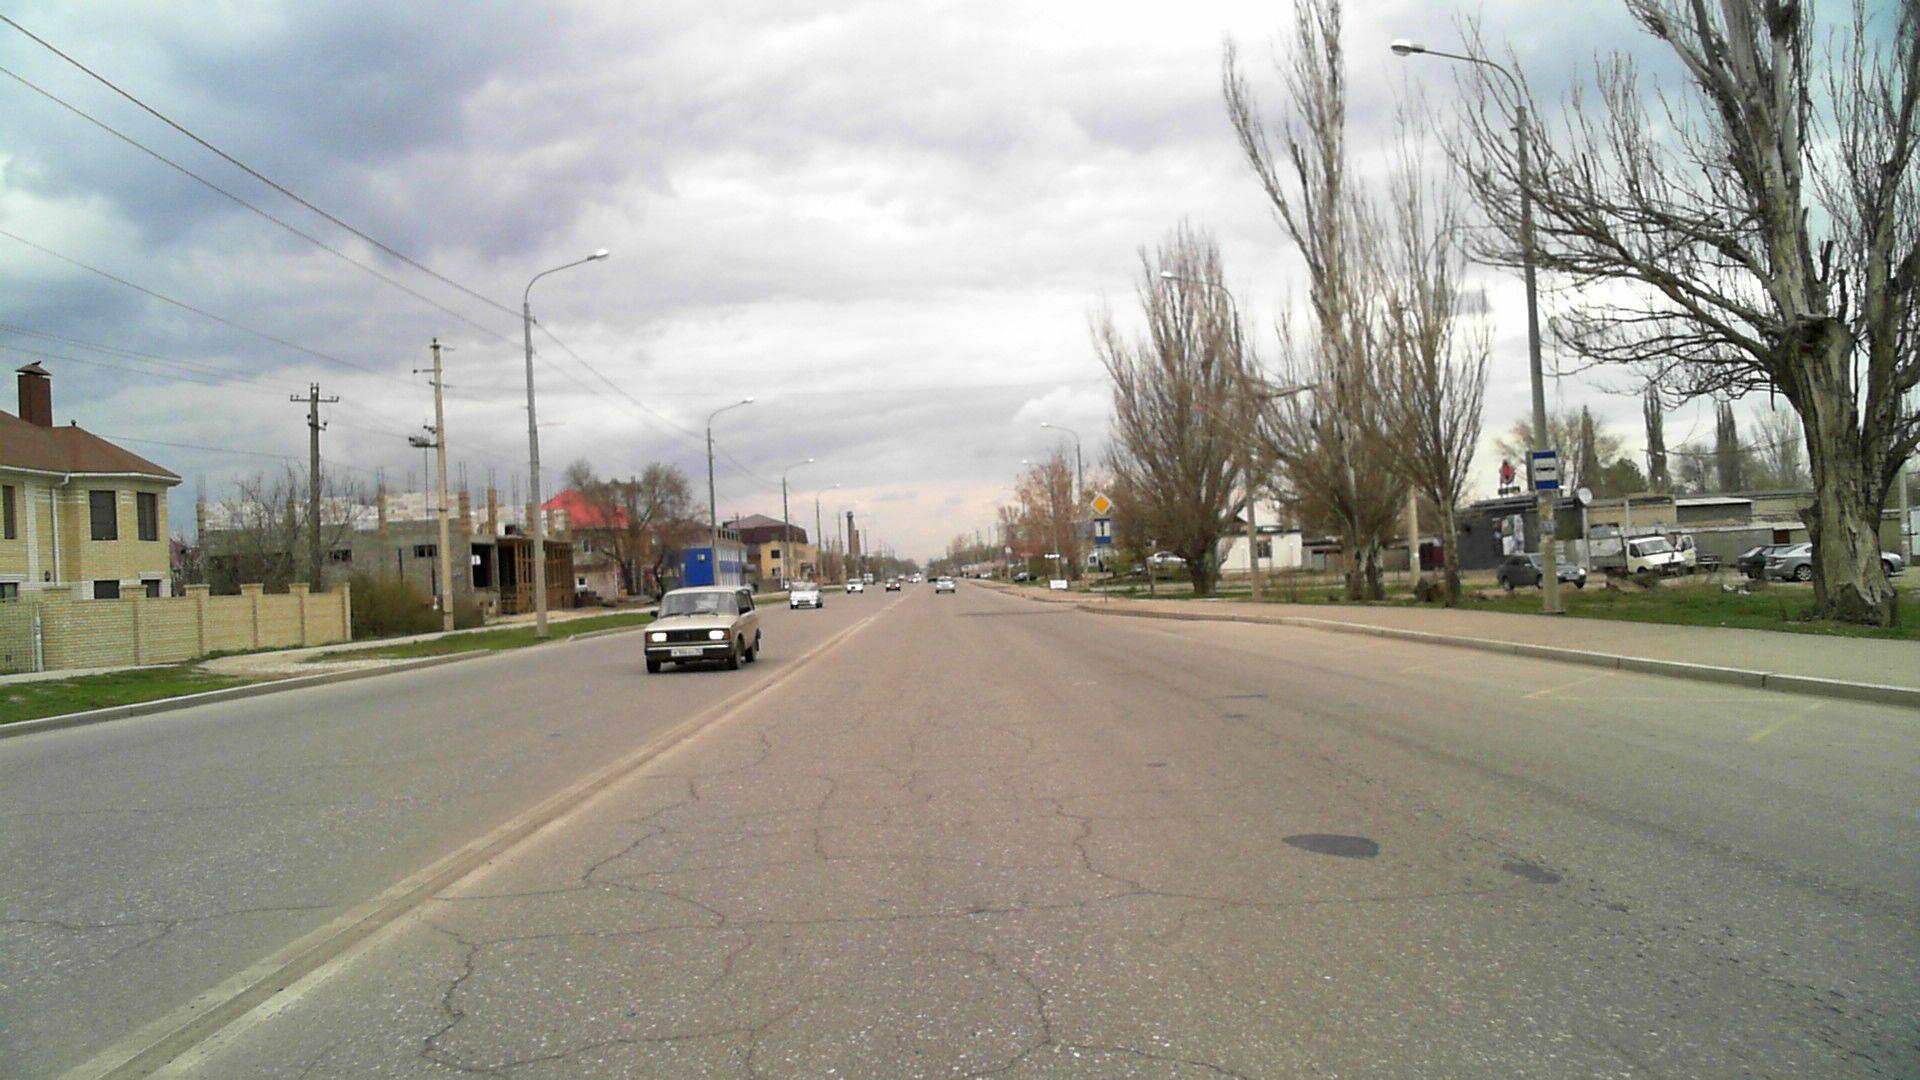2_1: (1088, 492, 1114, 514)
5_16: (1528, 451, 1561, 491)
7_4: (1091, 517, 1112, 545)
